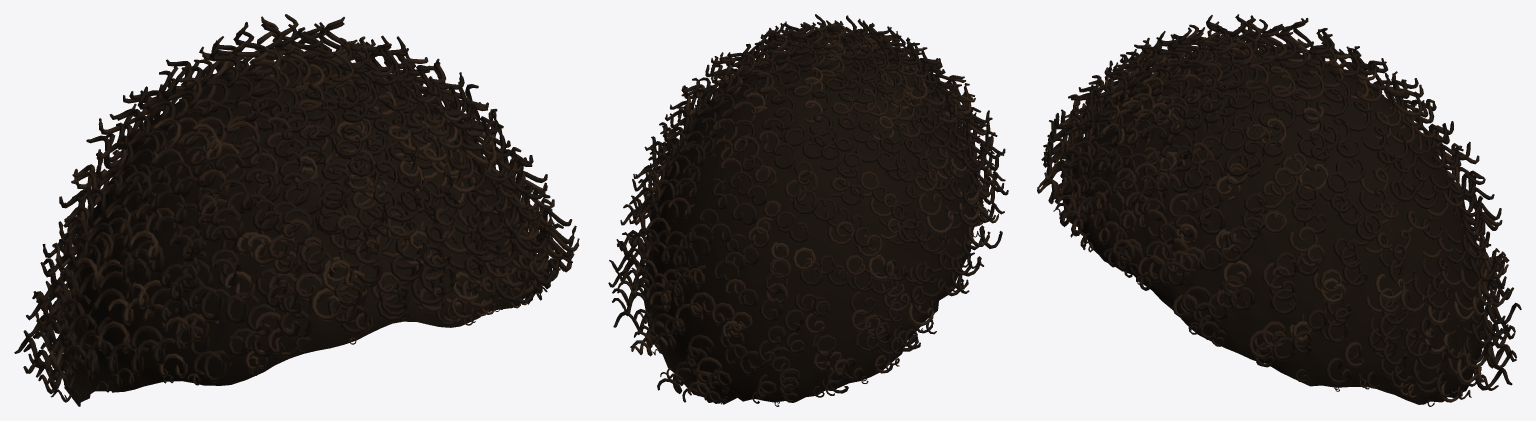
The model's file is curl-crop-near.glb.
The picture shows the model from 3 angles, left to right: view 1: azimuth 30°, elevation 25°; view 2: azimuth 150°, elevation 25°; view 3: azimuth 270°, elevation 25°; orthographic projection. The views are drawn at different scales.
Visible parts, largest first — view 1: C01 tight curl crop - near, C01 scalp foundation - near; view 2: C01 tight curl crop - near, C01 scalp foundation - near; view 3: C01 tight curl crop - near, C01 scalp foundation - near.
Part boxes in pixels (x1,y1,x2,y2): C01 tight curl crop - near: [14, 14, 579, 402]; C01 scalp foundation - near: [64, 62, 540, 406]; C01 tight curl crop - near: [608, 14, 1008, 406]; C01 scalp foundation - near: [643, 49, 983, 404]; C01 tight curl crop - near: [1037, 14, 1521, 406]; C01 scalp foundation - near: [1062, 49, 1484, 404].
Size of the model in its own units: 0.2065 by 0.179 by 0.2233.
